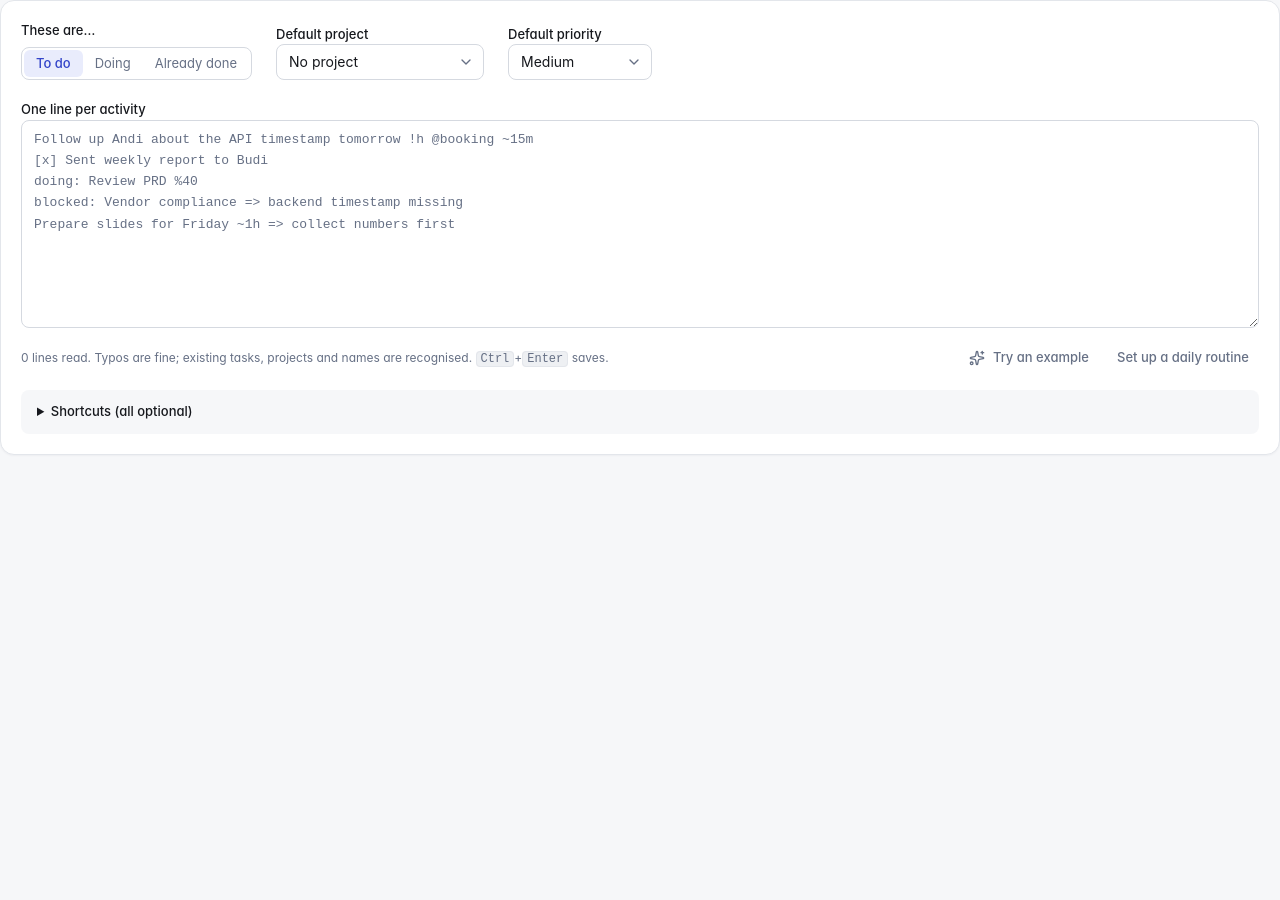
Test: Brain Dump: smart matching › a plain line that already exists is skipped, but you can still choose to create it
Click the text box labelled "One line per activity".
click(640, 224)  # box [21,120,1259,328]
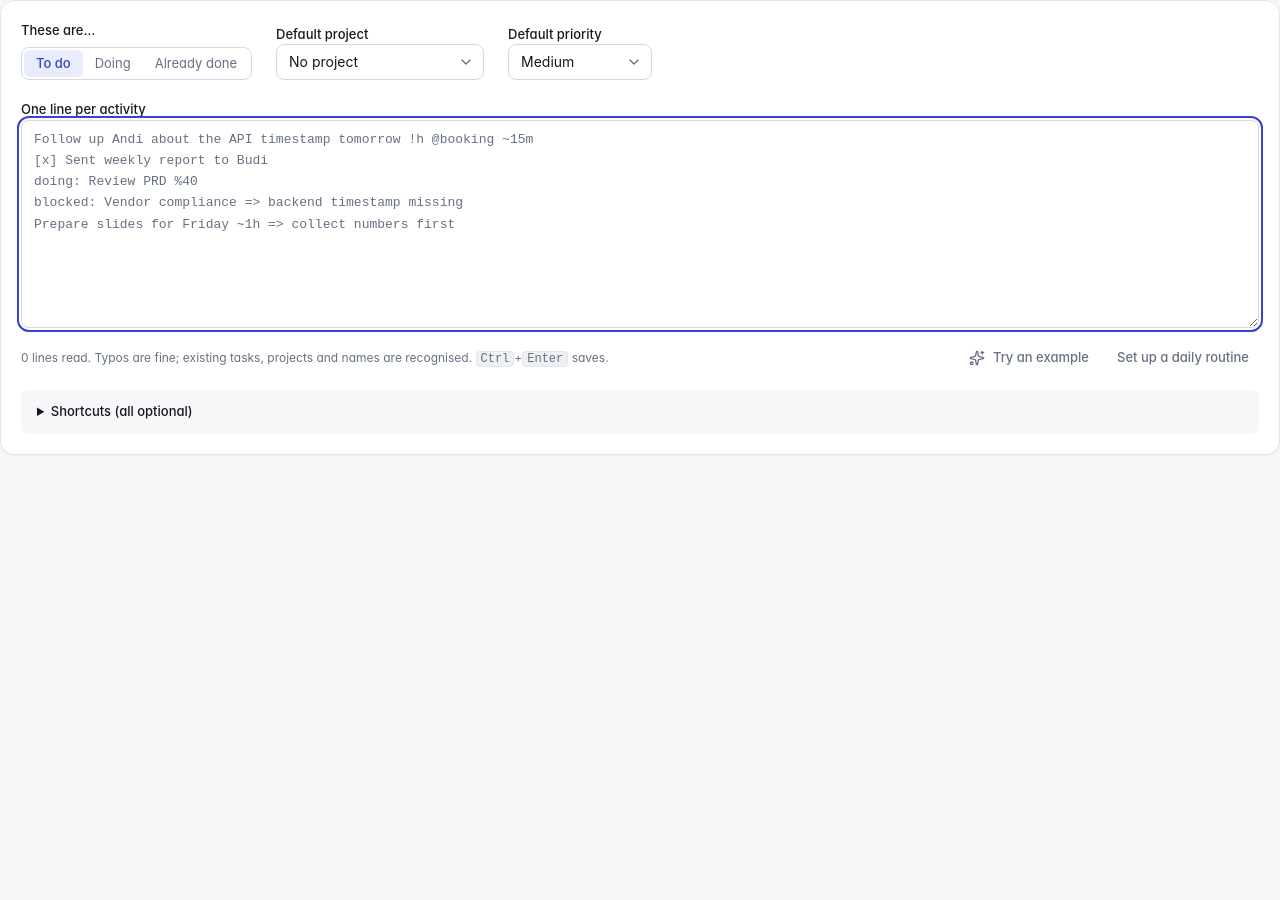
Type keys "review the PRD v2"
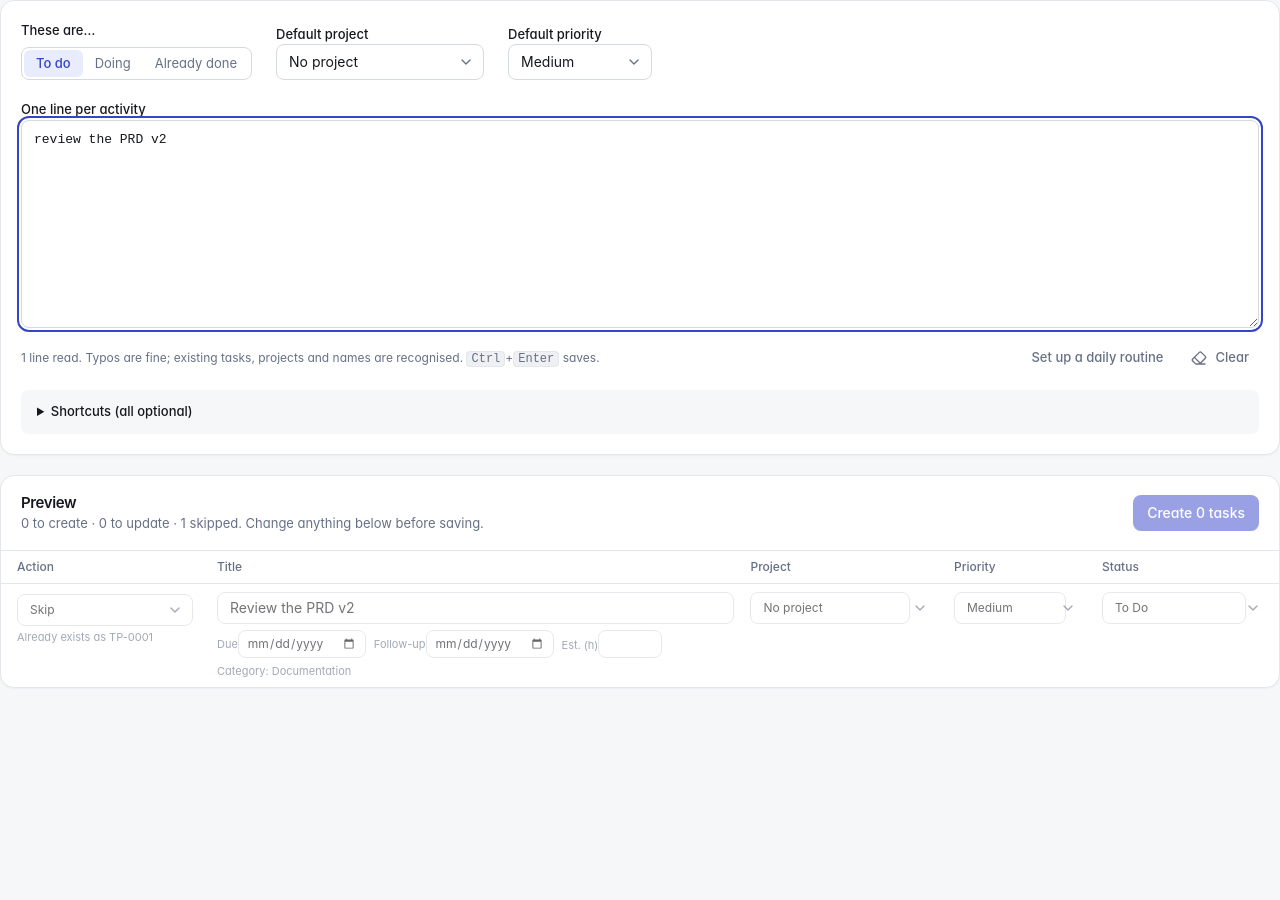
Now the dropdown named "Action for line 1" shows "Skip"
Now the text "Already exists as TP-0001" is shown, box [17,630,153,644]
Now the button "Create 0 tasks" is disabled, box [1133,495,1259,531]
Select "Create new task" in the dropdown named "Action for line 1" at [105, 610], box [17,594,193,626]
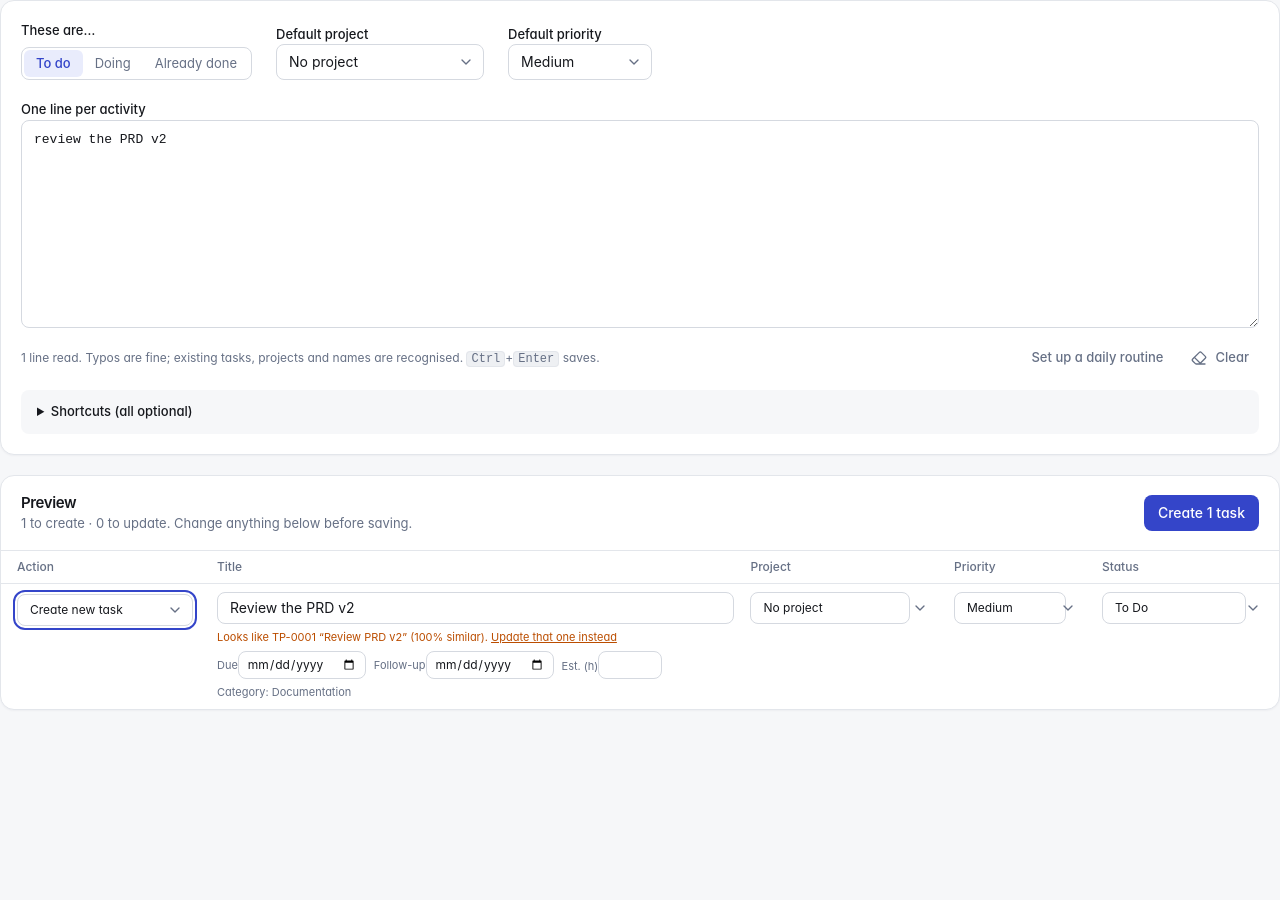
Now the button "Create 1 task" is enabled, box [1144,495,1259,531]
